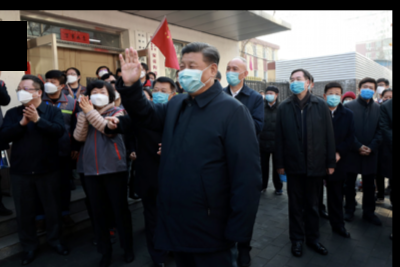with_mask: (179, 59, 212, 94), (226, 63, 243, 86), (90, 88, 109, 107), (151, 85, 170, 104), (17, 85, 35, 105), (289, 75, 306, 95), (44, 78, 59, 94), (361, 83, 375, 100), (327, 91, 341, 107), (66, 71, 78, 84), (265, 91, 277, 103), (99, 69, 110, 79), (377, 82, 385, 95)
